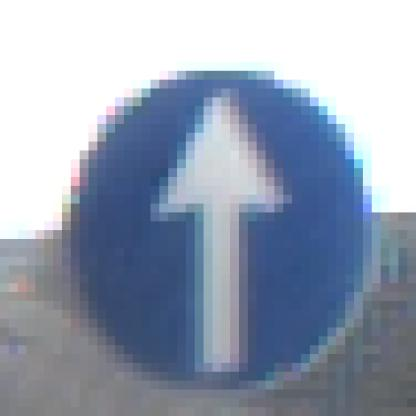AheadOnly: (54, 54, 373, 373)
